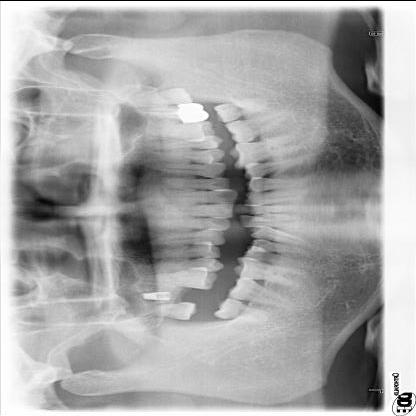Bicon: (136, 290, 176, 301)
